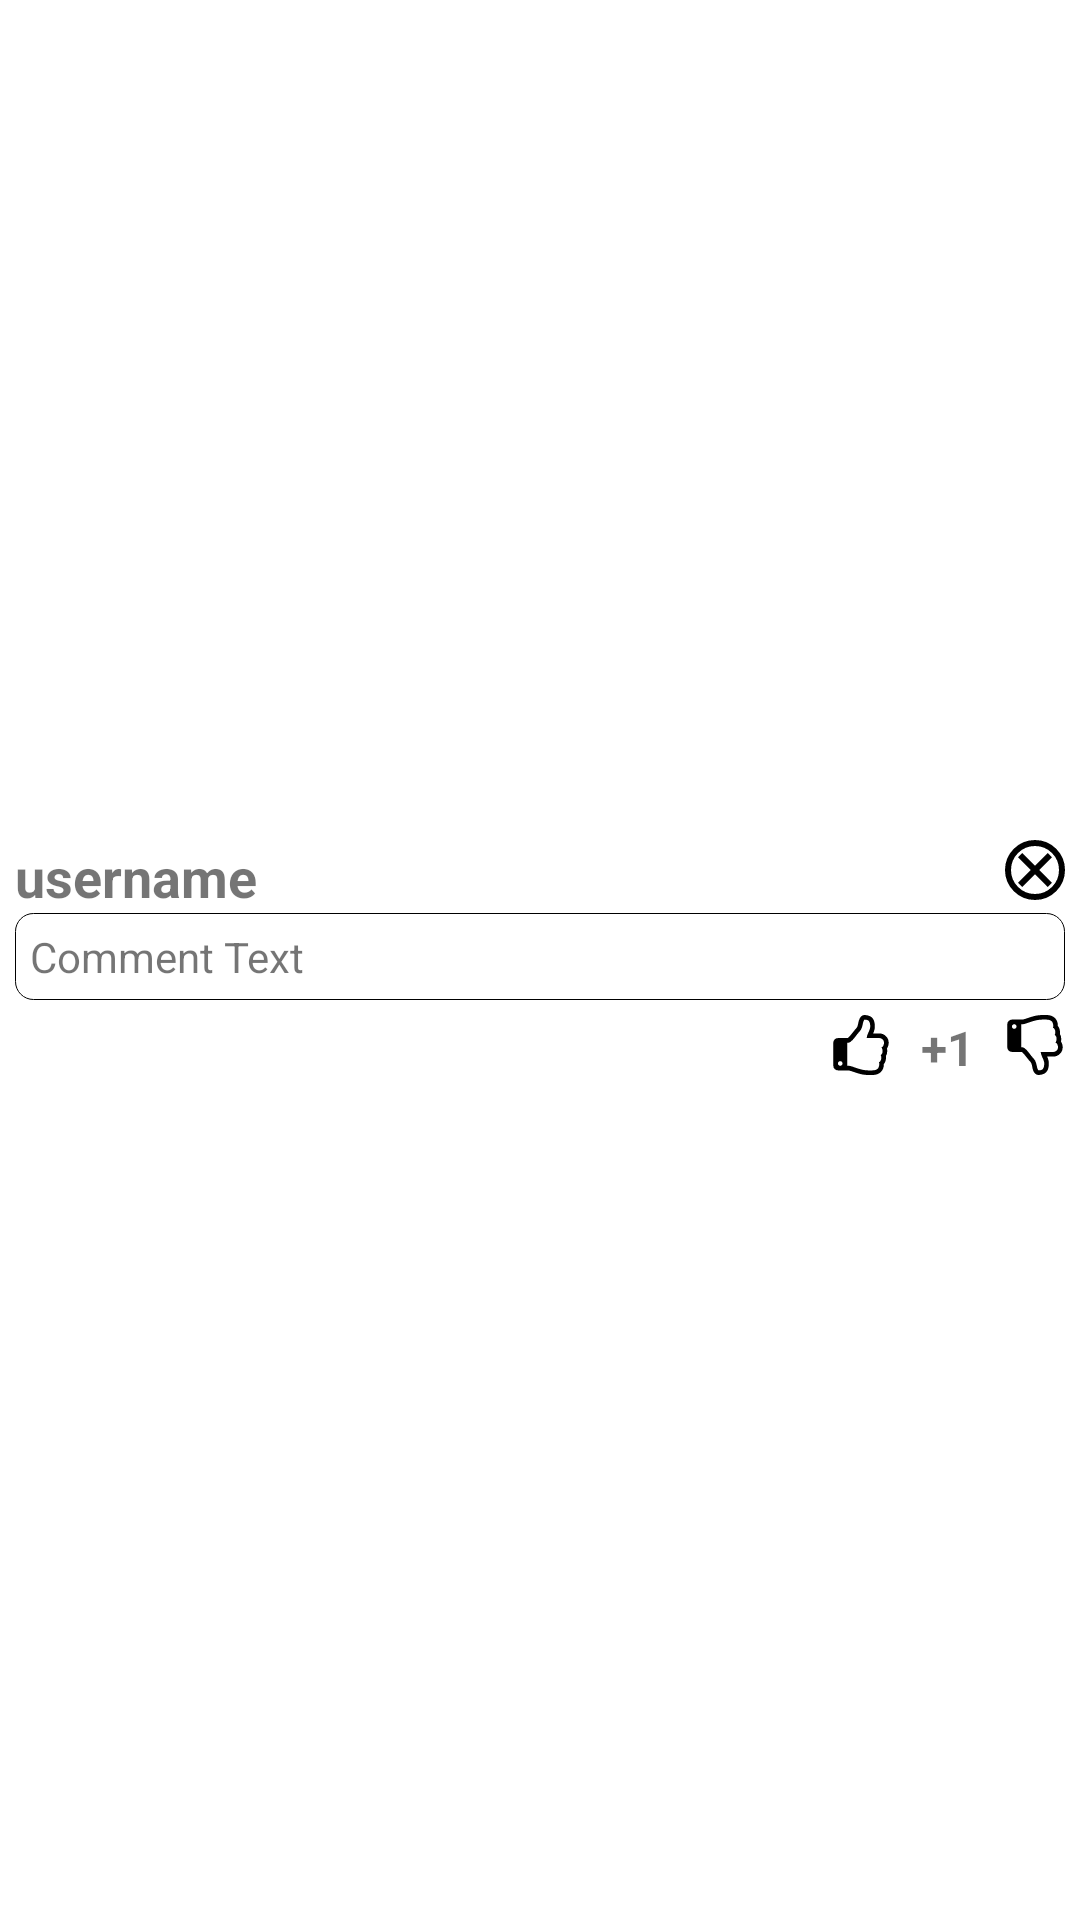

Screen size 1080x1920. Icon name, then its box in pixels as bbox=(x1, y1, x2, y2):
delete: bbox=(1005, 840, 1065, 900)
downvote: bbox=(1007, 1015, 1063, 1075)
upvote: bbox=(833, 1015, 889, 1075)
